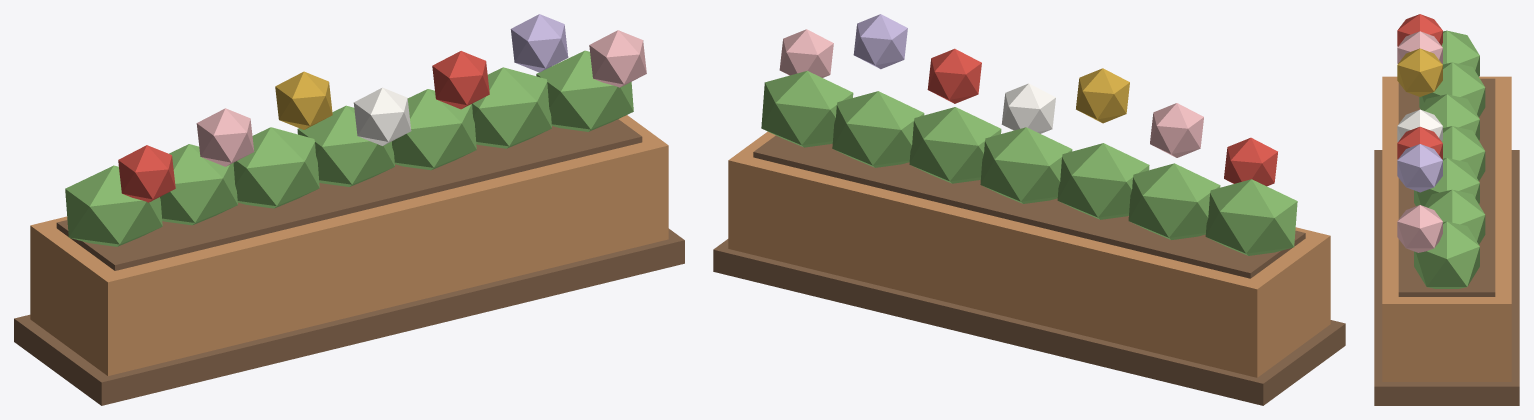
The model's file is window-box.glb.
The picture shows the model from 3 angles, left to right: view 1: azimuth 30°, elevation 25°; view 2: azimuth 150°, elevation 25°; view 3: azimuth 270°, elevation 25°; orthographic projection. The views are drawn at different scales.
Parts seen in each view (by area): view 1: window-box; view 2: window-box; view 3: window-box.
Boxes of the visible parts, <box> form: window-box: <box>14,14,684,405</box>; window-box: <box>713,14,1345,405</box>; window-box: <box>1374,14,1519,405</box>.
Bounding box in the file's own units: 1.04 × 0.44 × 0.27.
